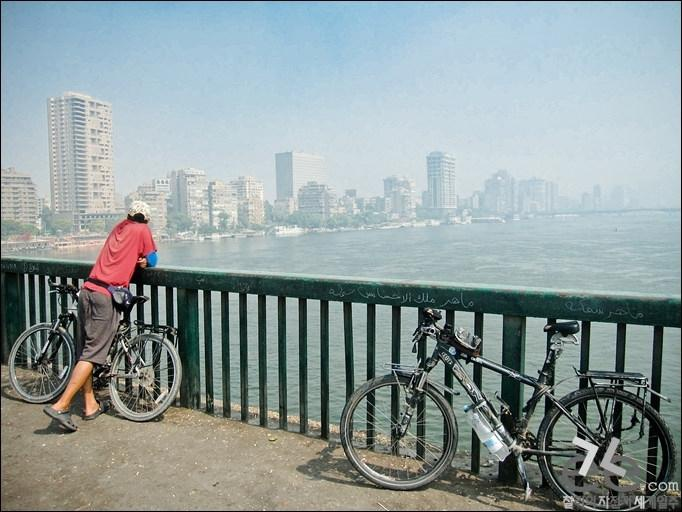non-vehicle: (337, 306, 677, 511), (6, 277, 184, 423)
